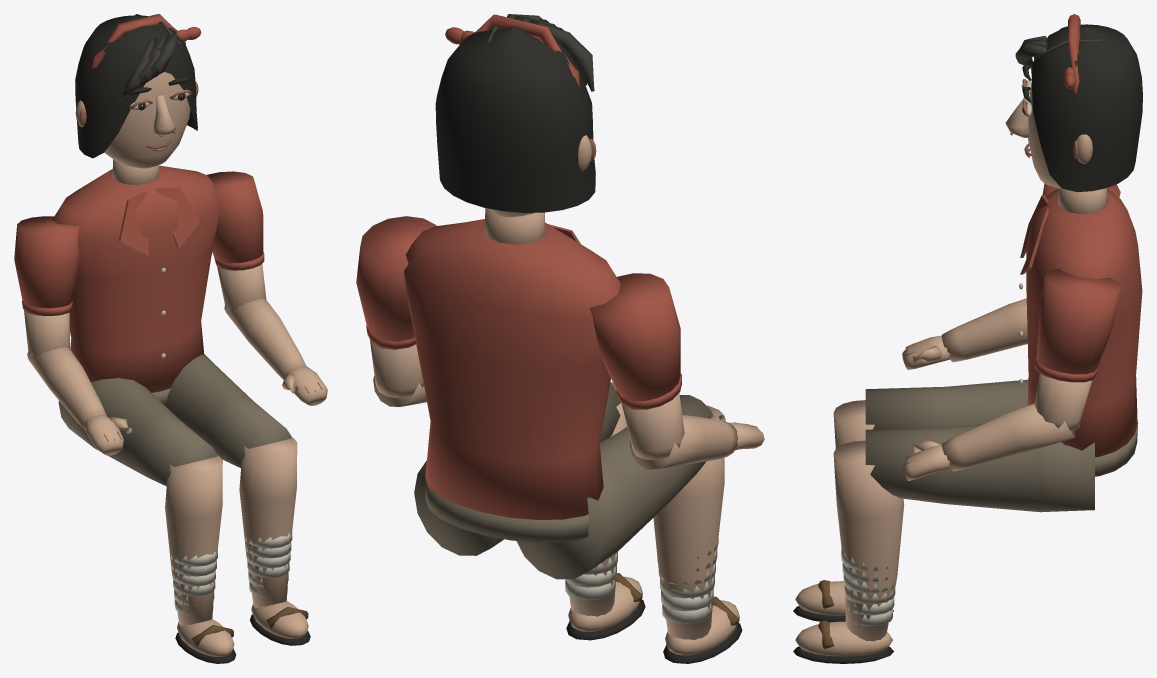
The model's file is quance.glb.
3 views of the same model, side by side, from view 1: azimuth 30°, elevation 25°; view 2: azimuth 150°, elevation 25°; view 3: azimuth 270°, elevation 25° (orthographic). The views are drawn at different scales.
Parts seen in each view (by area): view 1: body.010_mesh, head.010_mesh, shinR.010_mesh, shinL.010_mesh, armL.010_mesh, legL.010_mesh, legR.010_mesh, armR.010_mesh, forearmL.010_mesh, forearmR.010_mesh; view 2: body.010_mesh, head.010_mesh, armL.010_mesh, shinL.010_mesh, legL.010_mesh, armR.010_mesh, shinR.010_mesh, forearmL.010_mesh, legR.010_mesh, forearmR.010_mesh; view 3: body.010_mesh, head.010_mesh, shinR.010_mesh, legR.010_mesh, armR.010_mesh, legL.010_mesh, forearmR.010_mesh, forearmL.010_mesh, shinL.010_mesh.
Boxes of the visible parts, x1,y1,x2,y2 form: body.010_mesh: [52, 159, 220, 406]; head.010_mesh: [75, 14, 201, 168]; shinR.010_mesh: [239, 437, 310, 645]; shinL.010_mesh: [165, 455, 236, 663]; armL.010_mesh: [14, 216, 79, 356]; legL.010_mesh: [58, 378, 217, 486]; legR.010_mesh: [166, 354, 291, 467]; armR.010_mesh: [207, 171, 266, 310]; forearmL.010_mesh: [27, 347, 131, 455]; forearmR.010_mesh: [224, 298, 327, 405]; body.010_mesh: [404, 208, 620, 542]; head.010_mesh: [435, 14, 596, 217]; armL.010_mesh: [590, 273, 684, 459]; shinL.010_mesh: [653, 405, 742, 663]; legL.010_mesh: [516, 395, 712, 579]; armR.010_mesh: [356, 216, 436, 398]; shinR.010_mesh: [565, 382, 645, 640]; forearmL.010_mesh: [629, 415, 764, 469]; legR.010_mesh: [414, 383, 620, 555]; forearmR.010_mesh: [373, 376, 426, 406]; body.010_mesh: [1019, 188, 1142, 476]; head.010_mesh: [1005, 14, 1142, 192]; shinR.010_mesh: [793, 440, 904, 663]; legR.010_mesh: [865, 424, 1094, 512]; armR.010_mesh: [1034, 268, 1120, 430]; legL.010_mesh: [865, 379, 1028, 429]; forearmR.010_mesh: [902, 403, 1075, 480]; forearmL.010_mesh: [902, 298, 1027, 369]; shinL.010_mesh: [793, 400, 893, 622].
Size of the model in its own units: 0.423 by 0.9244 by 0.4792.
